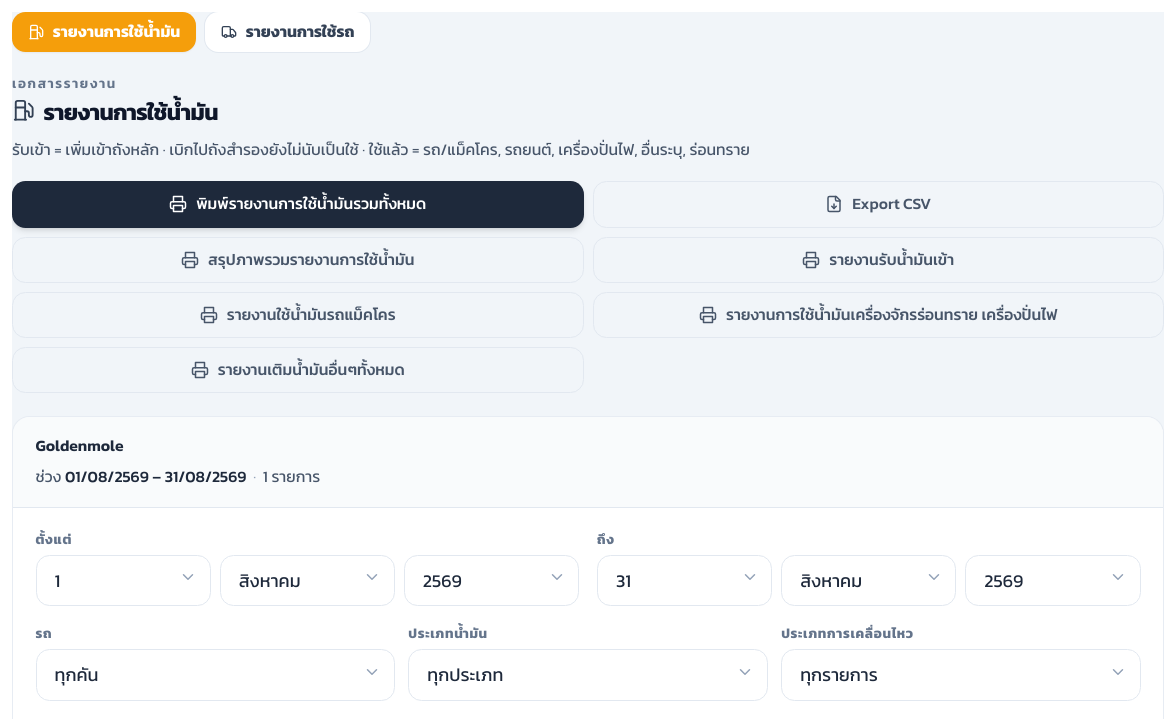
it: ReportsModule › still calculates when start and end dates are inverted
Select "31" in the dropdown named "ตั้งแต่ วัน" at (123, 581), box [36,555,211,606]
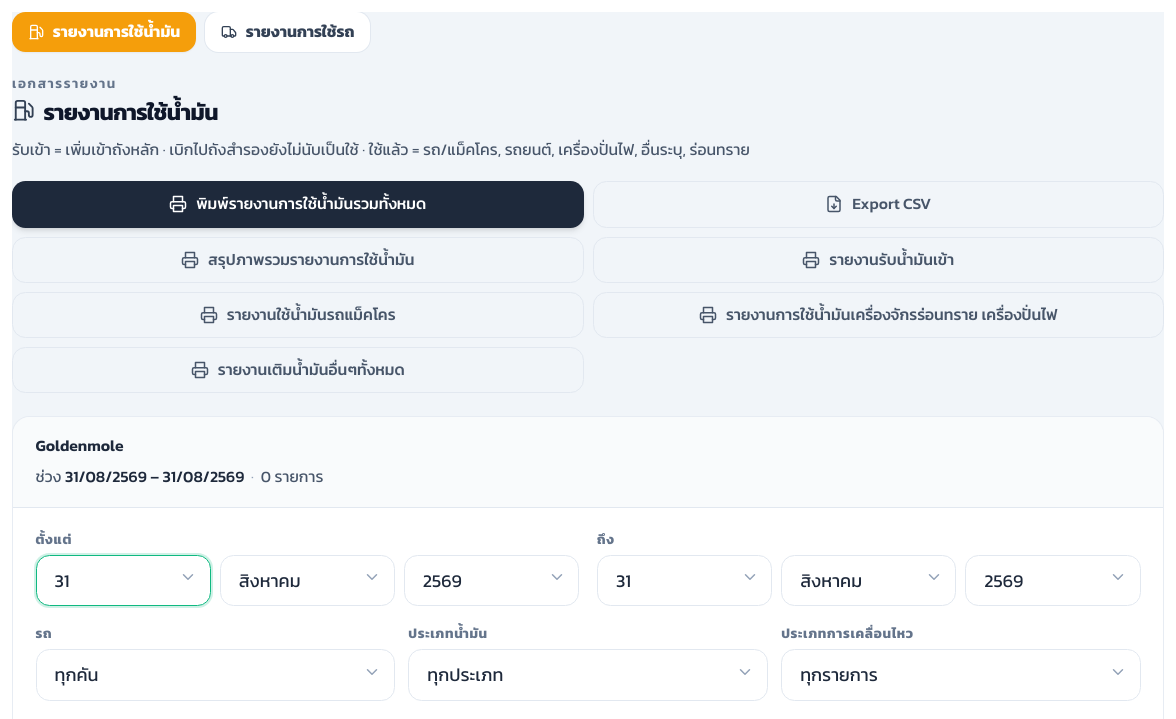
Select "1" in the dropdown named "ถึง วัน" at (685, 581), box [597,555,772,606]
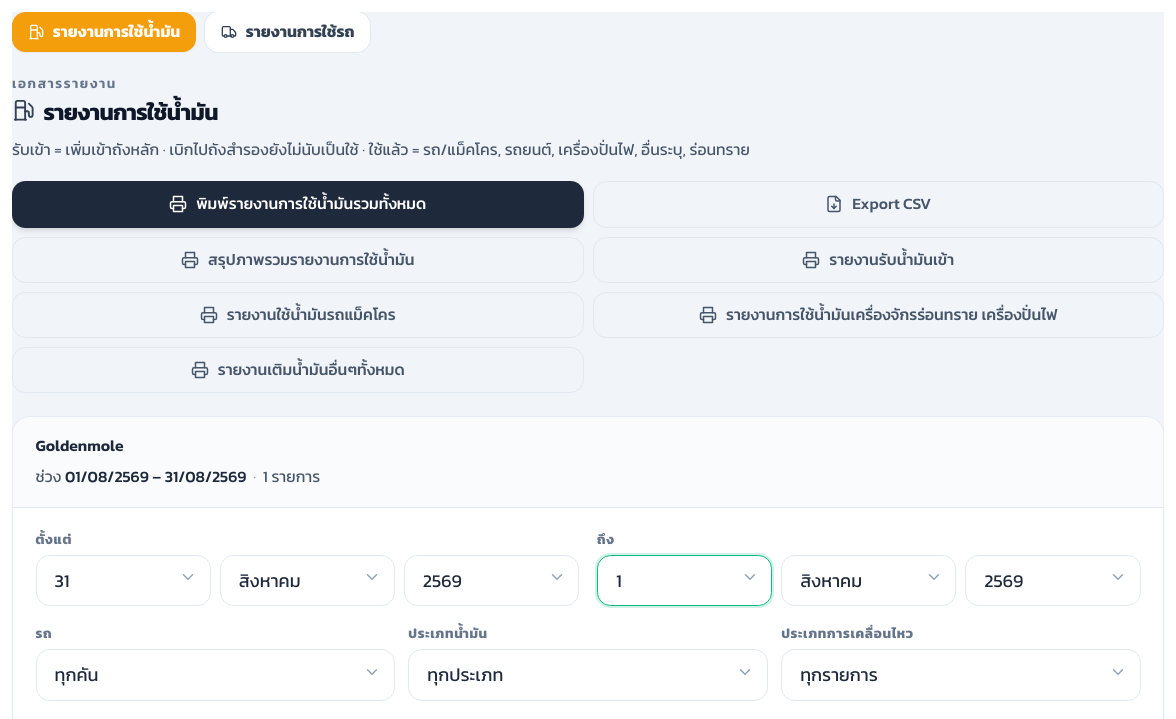
Expected: the text "01/08/2569 – 31/08/2569" is shown, [65,465,246,488]
